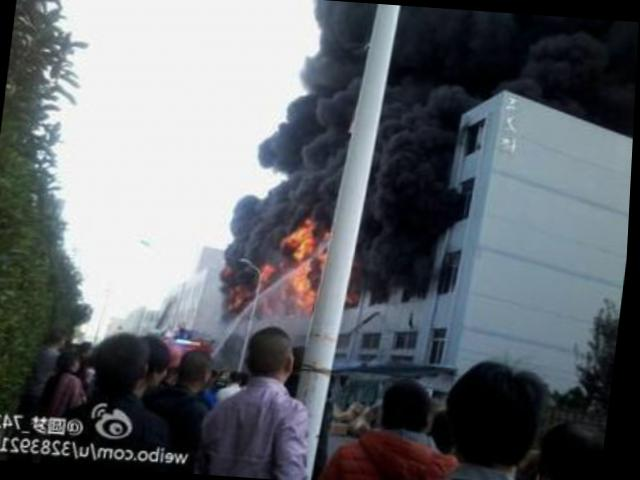fire: (289, 214, 327, 313), (269, 260, 279, 281)
